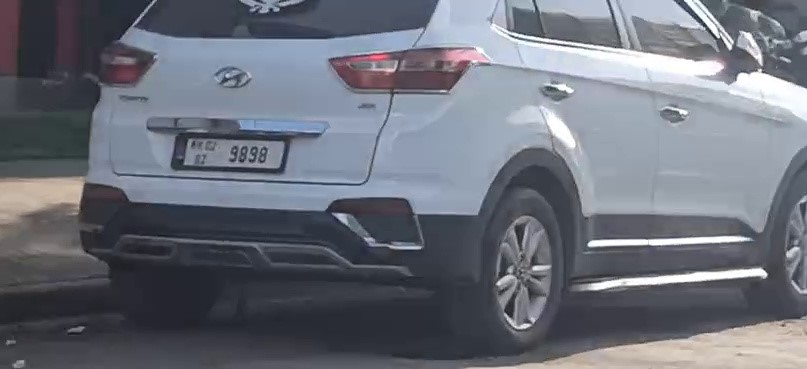MH02DZ9898: (175, 136, 285, 171)
